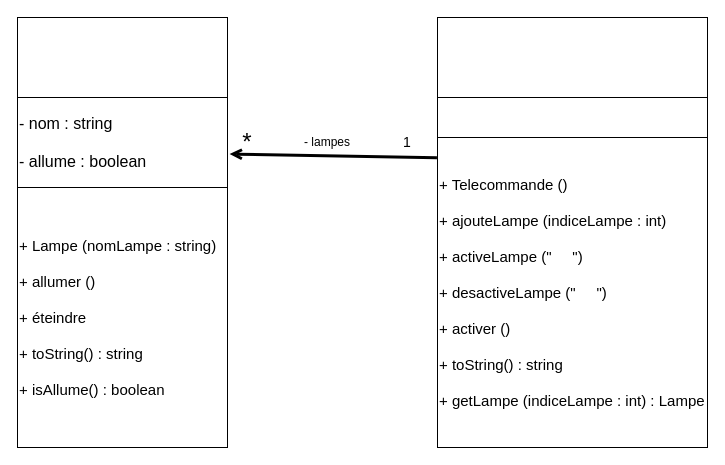
This 725x465 diagram has some shape labels left out. The shapes that lost their labels are listed below. From the top down, each one's centre as x and y in pixels, then its label:
(122,57): LAMPE
(572,57): Telecommande
